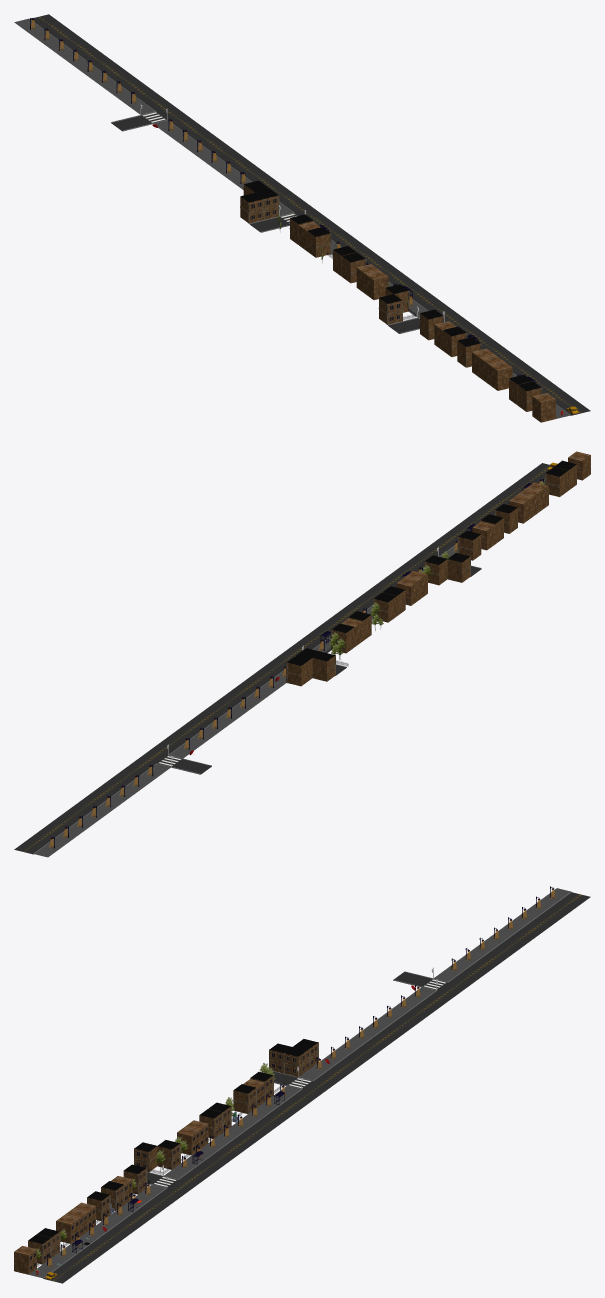
File: tempEnvTestingDelete.gltf
3 renders of one model, top to bottom at view 1: azimuth 30°, elevation 25°; view 2: azimuth 150°, elevation 25°; view 3: azimuth 330°, elevation 25°, orthographic. The views are drawn at different scales.
Visible parts, largest first — view 1: CarLane, WalkLane.003, WalkLane.002, House2.009, House2.013, House2.005, House, House.005, House.001; view 2: CarLane, WalkLane.003, WalkLane.002, House2.014, House2.013, House2.005, House2.001, House2.004, House2.006, House2.008; view 3: CarLane, WalkLane.003, WalkLane.002, WalkLane.001, WalkLane, House2.009, House, House2.006, House2.005, House.001.
Part boxes in pixels (x1,y1,x2,y2): CarLane: [31, 14, 590, 415]; WalkLane.003: [14, 18, 154, 114]; WalkLane.002: [153, 120, 292, 215]; House2.009: [307, 227, 331, 257]; House2.013: [240, 192, 263, 223]; House2.005: [378, 294, 402, 324]; House: [532, 393, 555, 422]; House.005: [365, 270, 388, 299]; House.001: [489, 361, 512, 390]; CarLane: [14, 463, 549, 854]; WalkLane.003: [34, 763, 170, 857]; WalkLane.002: [169, 670, 285, 758]; House2.014: [286, 656, 309, 686]; House2.013: [312, 651, 335, 681]; House2.005: [447, 552, 470, 582]; House2.001: [544, 467, 568, 496]; House2.004: [457, 530, 481, 560]; House2.006: [424, 555, 447, 585]; House2.008: [373, 592, 396, 622]; CarLane: [44, 892, 590, 1283]; WalkLane.003: [434, 888, 570, 981]; WalkLane.002: [299, 987, 435, 1080]; WalkLane.001: [164, 1086, 300, 1179]; WalkLane: [29, 1184, 165, 1278]; House2.009: [233, 1084, 256, 1114]; House: [14, 1246, 36, 1274]; House2.006: [157, 1140, 180, 1169]; House2.005: [134, 1142, 157, 1172]; House.001: [56, 1215, 79, 1243].
Bounding box in the file's own units: 13.2 × 4.57 × 188.
